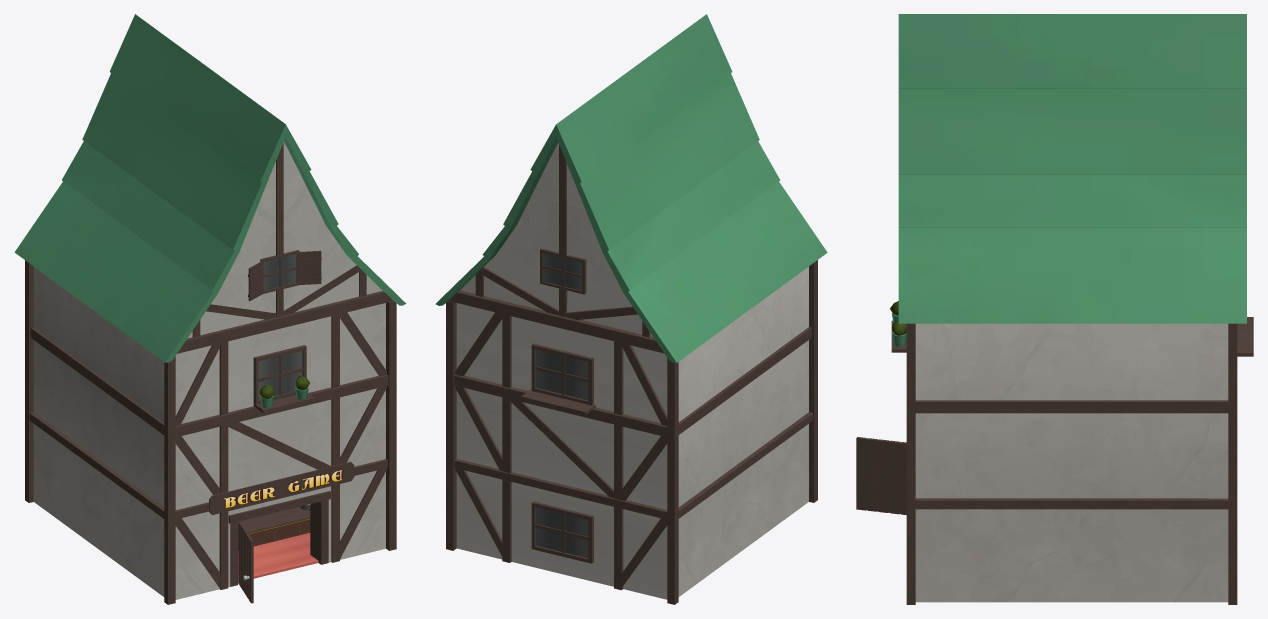
Rendered from pm-tabern.glb.
3 renders of one model, left to right at view 1: azimuth 30°, elevation 25°; view 2: azimuth 150°, elevation 25°; view 3: azimuth 270°, elevation 25°, orthographic. The views are drawn at different scales.
Parts seen in each view (by area): view 1: Tabern; view 2: Tabern; view 3: Tabern.
Part boxes in pixels (bbox=[...]): Tabern: bbox=[14, 14, 406, 604]; Tabern: bbox=[435, 14, 827, 604]; Tabern: bbox=[856, 14, 1253, 604].
Size of what is drawn, in the model's own units: 10.19 by 18.37 by 12.56.
Materials: 10 (10 with a texture image).
